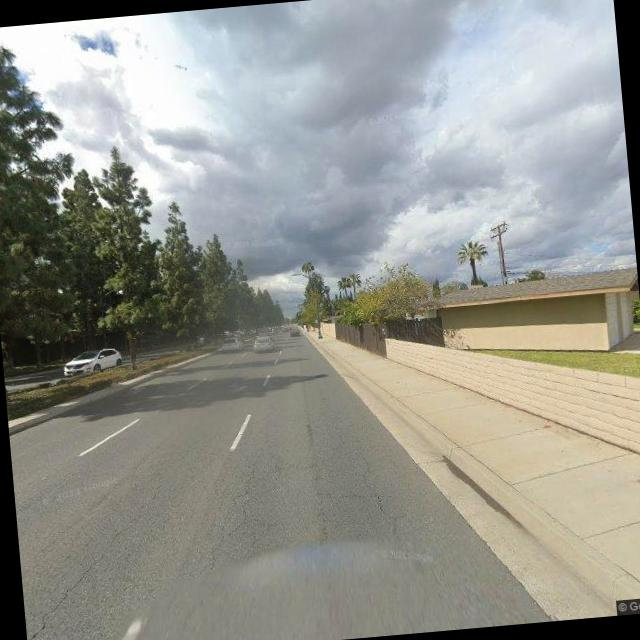crack: (18, 525, 140, 640), (198, 459, 268, 568)
